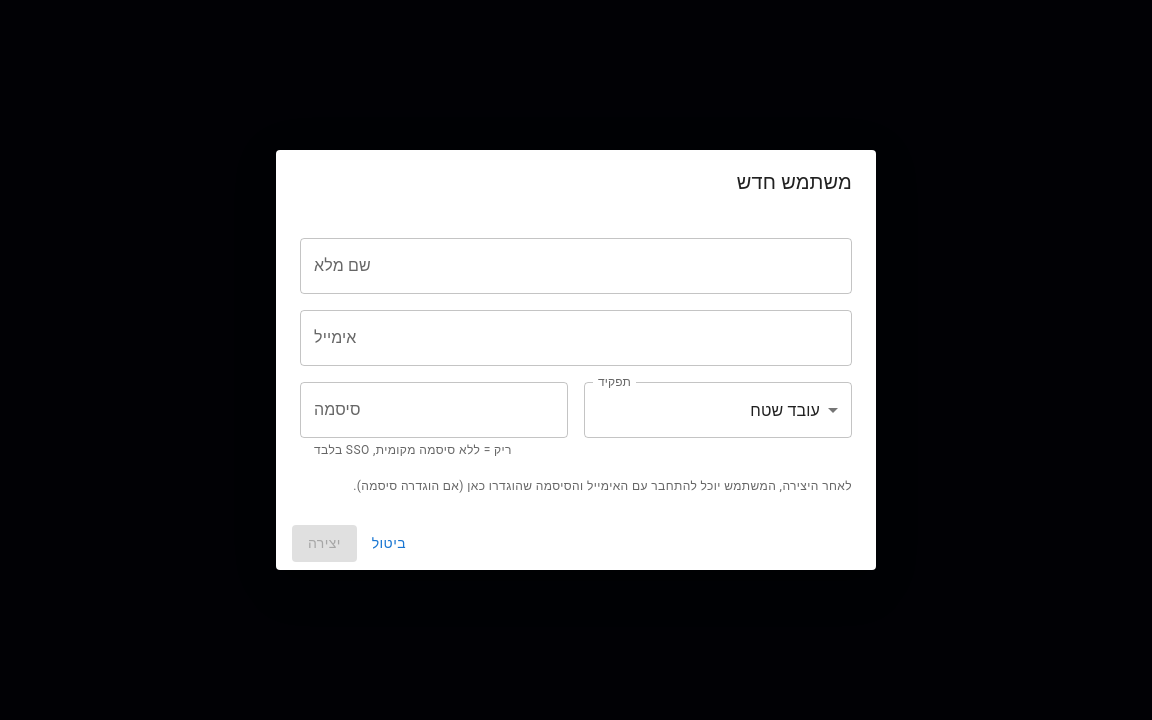
Scenario: UserDialog › keeps create disabled for a malformed email and a too-short password
Type "משתמש" into the field labelled "שם מלא" at (576, 266), box [300, 238, 852, 294]
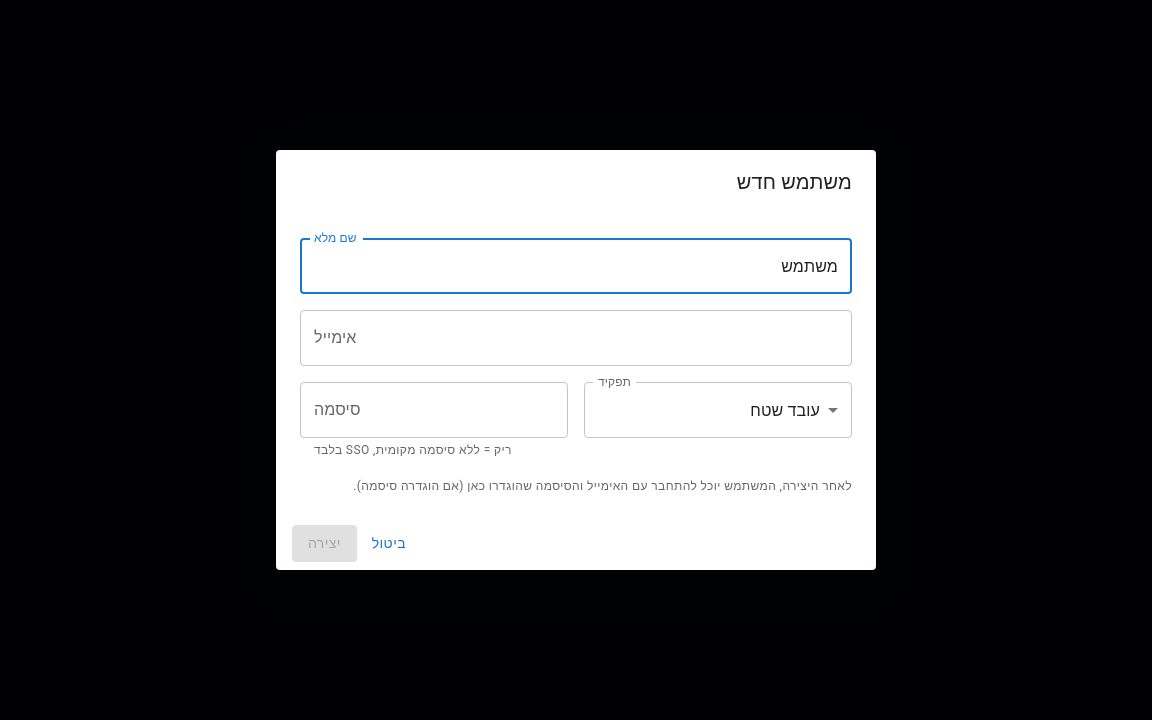
Type "not-an-email" into the field labelled "אימייל" at (576, 338), box [300, 310, 852, 366]
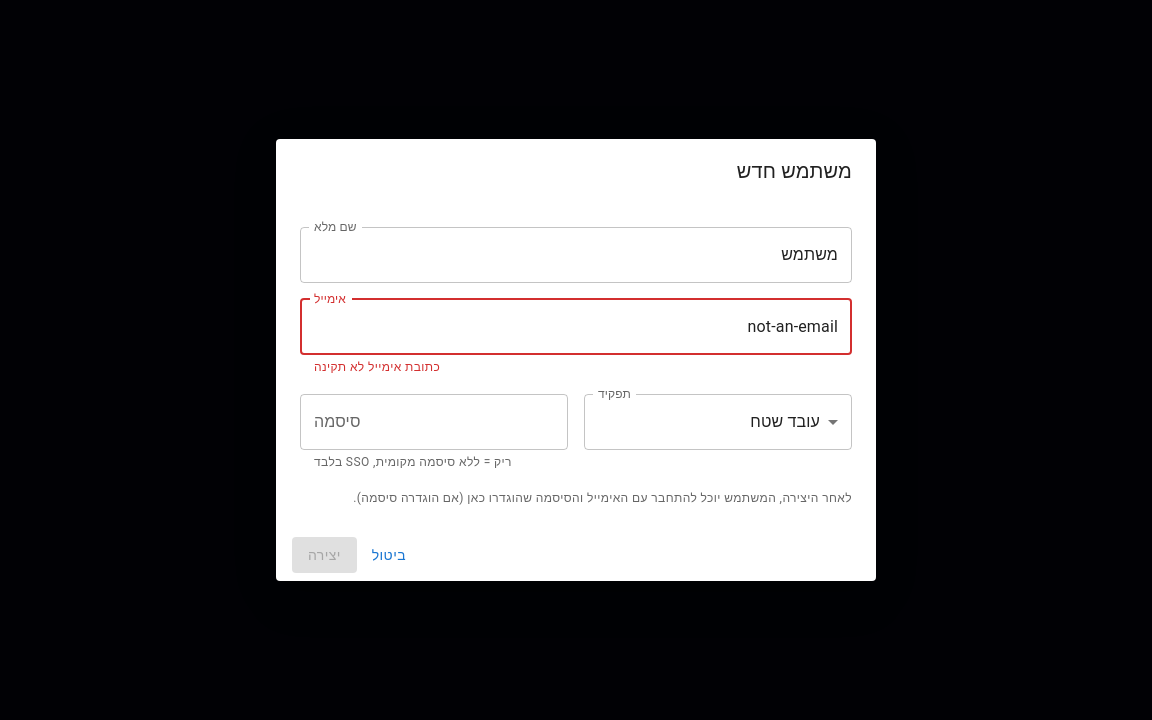
Check: the button "יצירה" is disabled, box [292, 537, 357, 573]
Check: the text "כתובת אימייל לא תקינה" is shown, box [314, 360, 440, 374]
Clear the field labelled "אימייל" at (576, 327), box [300, 299, 852, 355]
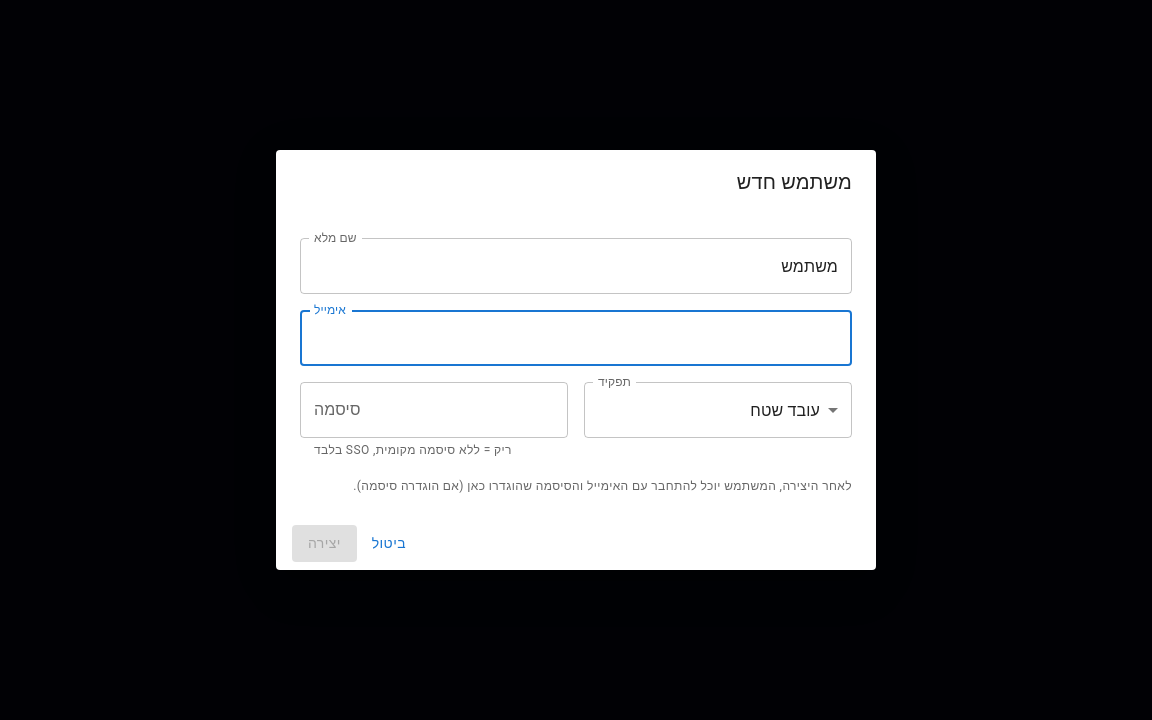
Type "new@example.com" into the field labelled "אימייל" at (576, 338), box [300, 310, 852, 366]
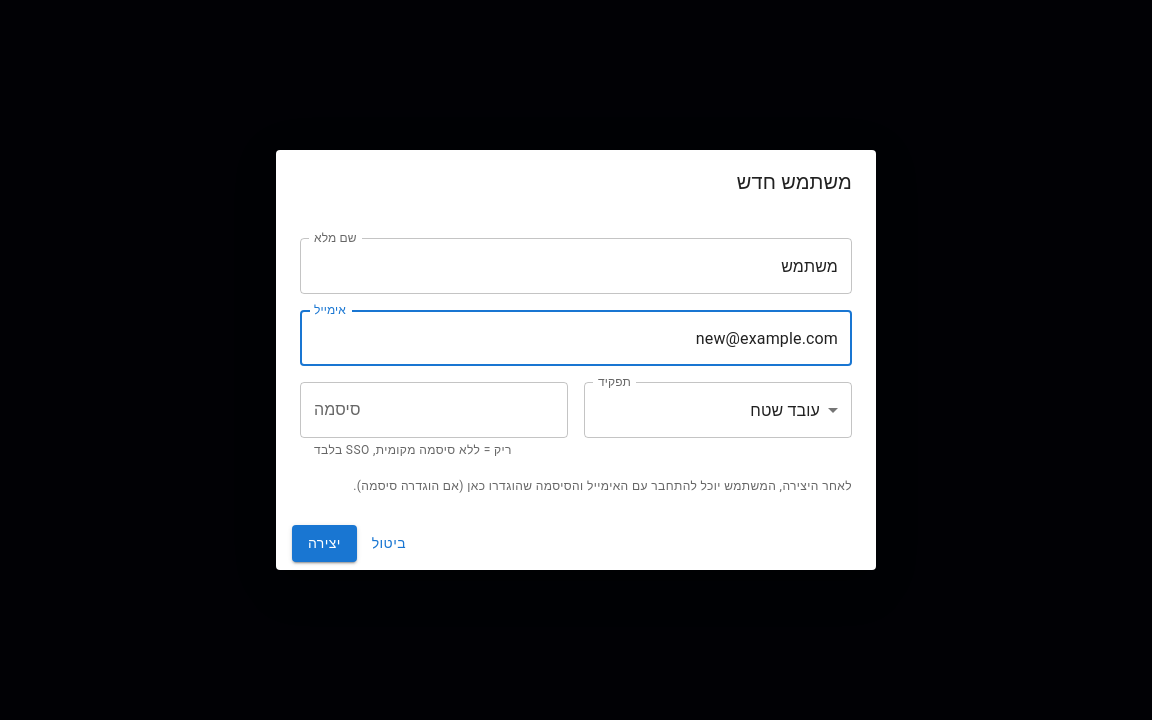
Check: the button "יצירה" is enabled, box [292, 525, 357, 562]
Type "short" into the password field labelled "סיסמה" at (434, 410), box [300, 382, 568, 438]
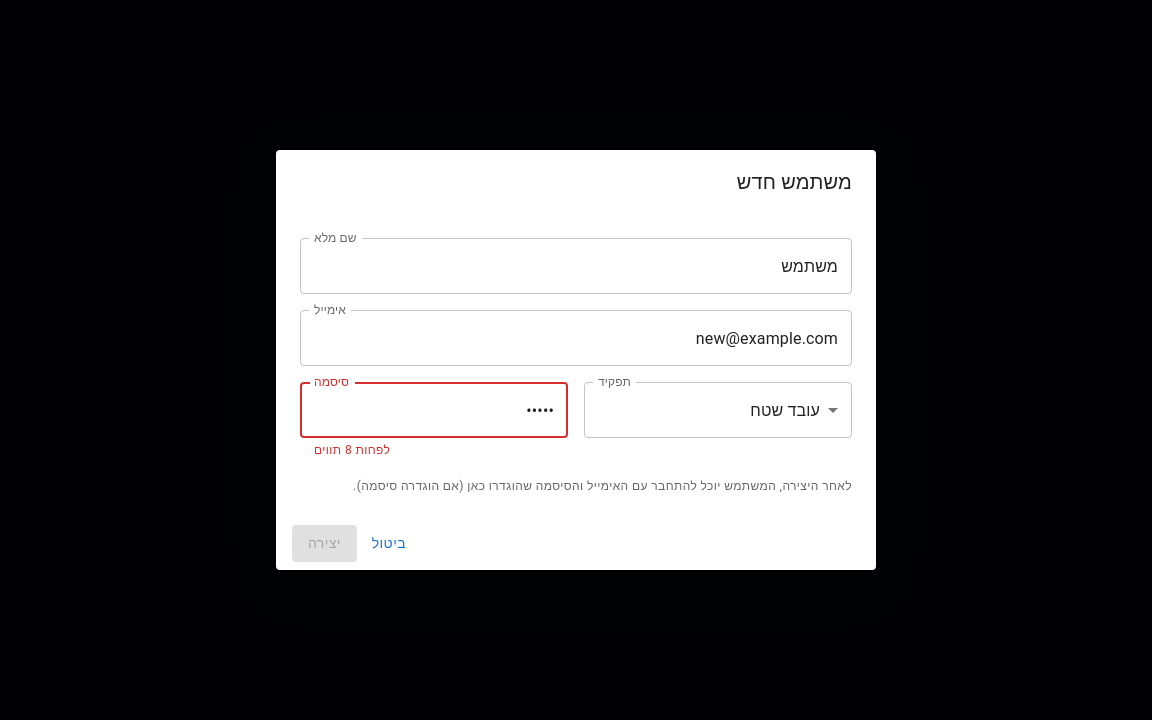
Check: the text "לפחות 8 תווים" is shown, box [314, 443, 390, 457]
Check: the button "יצירה" is disabled, box [292, 525, 357, 562]
